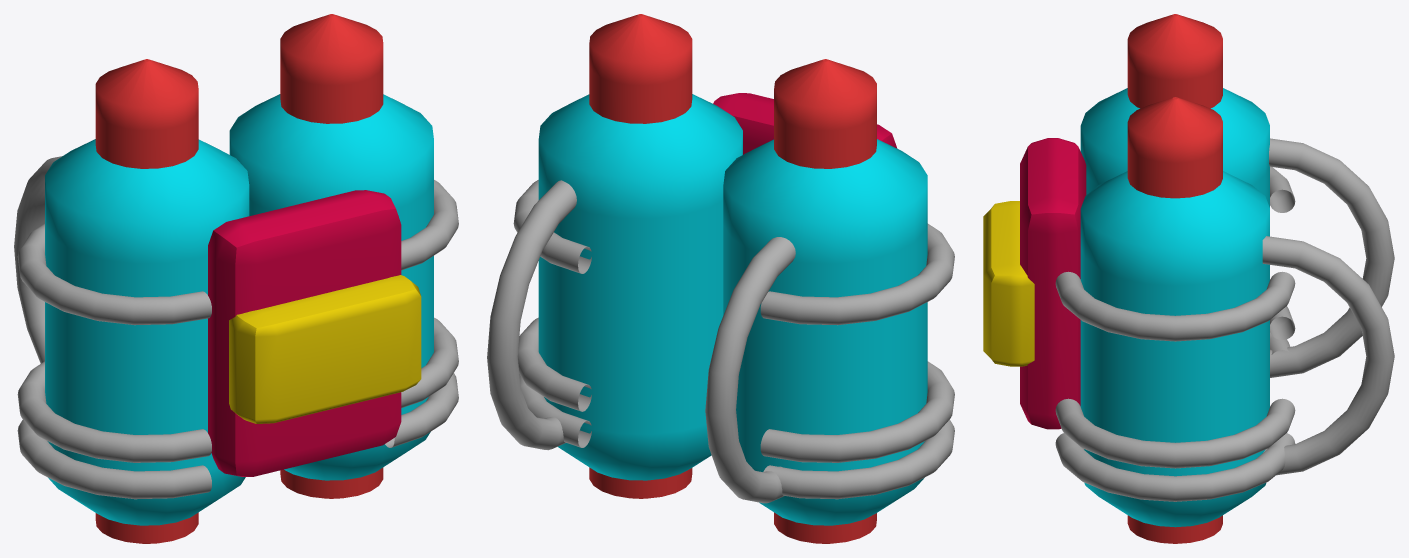
The model's file is men.fbx.
3 views of the same model, side by side, from view 1: azimuth 30°, elevation 25°; view 2: azimuth 150°, elevation 25°; view 3: azimuth 270°, elevation 25° (orthographic). The views are drawn at different scales.
Parts seen in each view (by area): view 1: pCube5; view 2: pCube5; view 3: pCube5.
Boxes of the visible parts, x1=… form: pCube5: x1=14, y1=14, x2=458, y2=543; pCube5: x1=487, y1=14, x2=954, y2=543; pCube5: x1=983, y1=14, x2=1394, y2=543.
Bounding box in the file's own units: 70.99 × 80.17 × 67.33.
